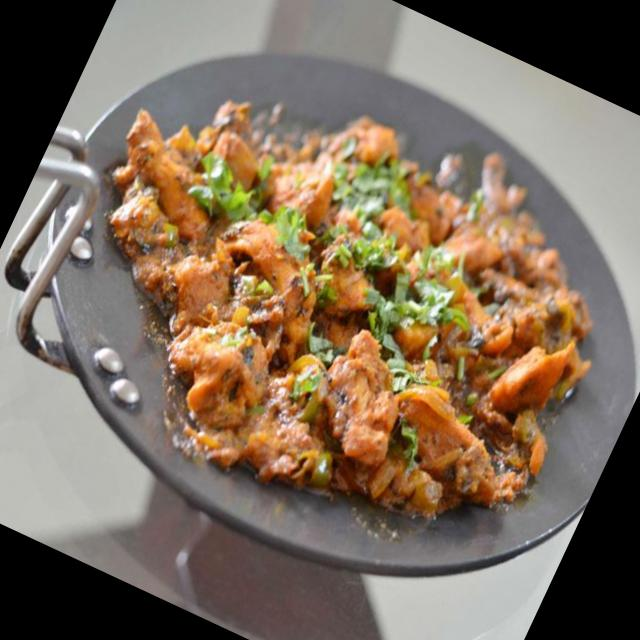chicken: (51, 52, 640, 529)
